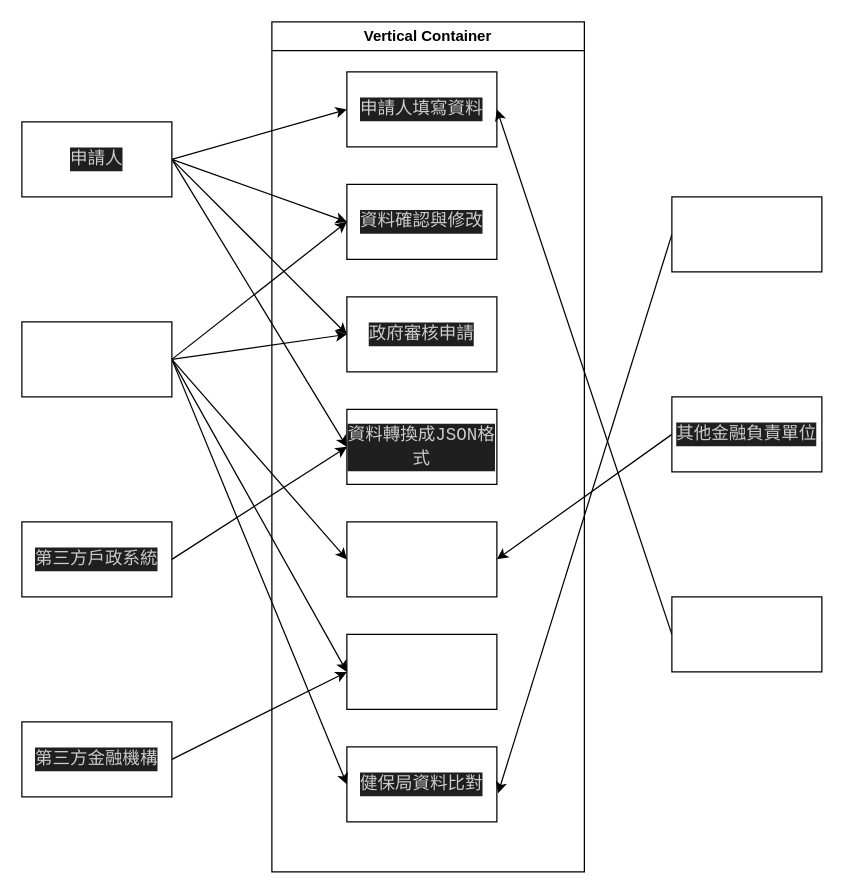
Some shapes in this 844 by 894 pixel diagram are drawn without their labels. Each missing label, with the centre of its shape:
"傳送報表生成" goes at point 421,559.
"全國所有民眾" goes at point 746,634.
"政府機關人員" goes at point 96,359.
"第三方健保局" goes at point 746,234.
"金融機構資料比對" goes at point 421,671.
